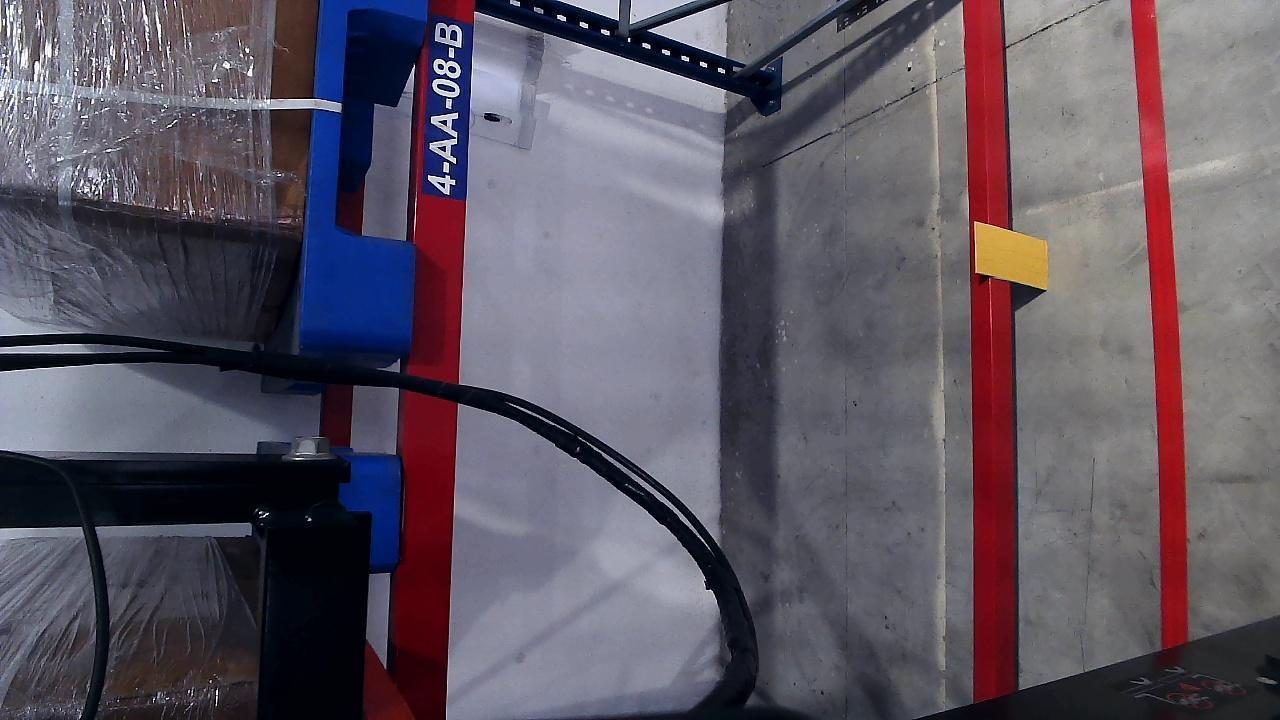red_line: (1128, 0, 1189, 645)
